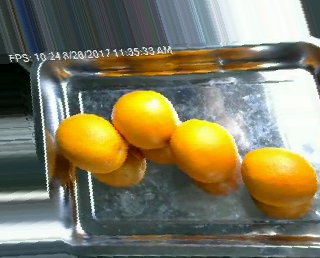Orange: (240, 146, 317, 207), (54, 112, 127, 174), (170, 117, 237, 181), (109, 90, 178, 148)
